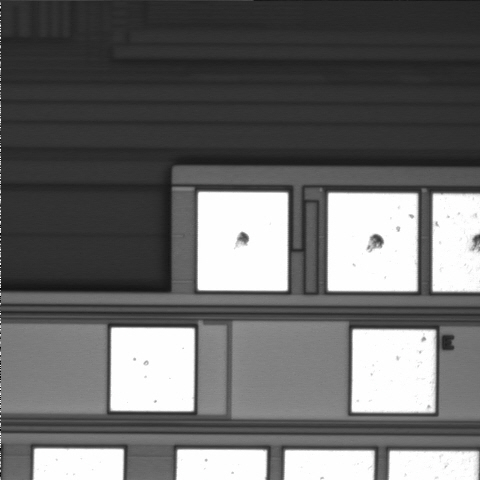pad: (198, 192, 288, 291), (328, 193, 418, 291), (111, 328, 194, 411), (352, 330, 435, 412)
